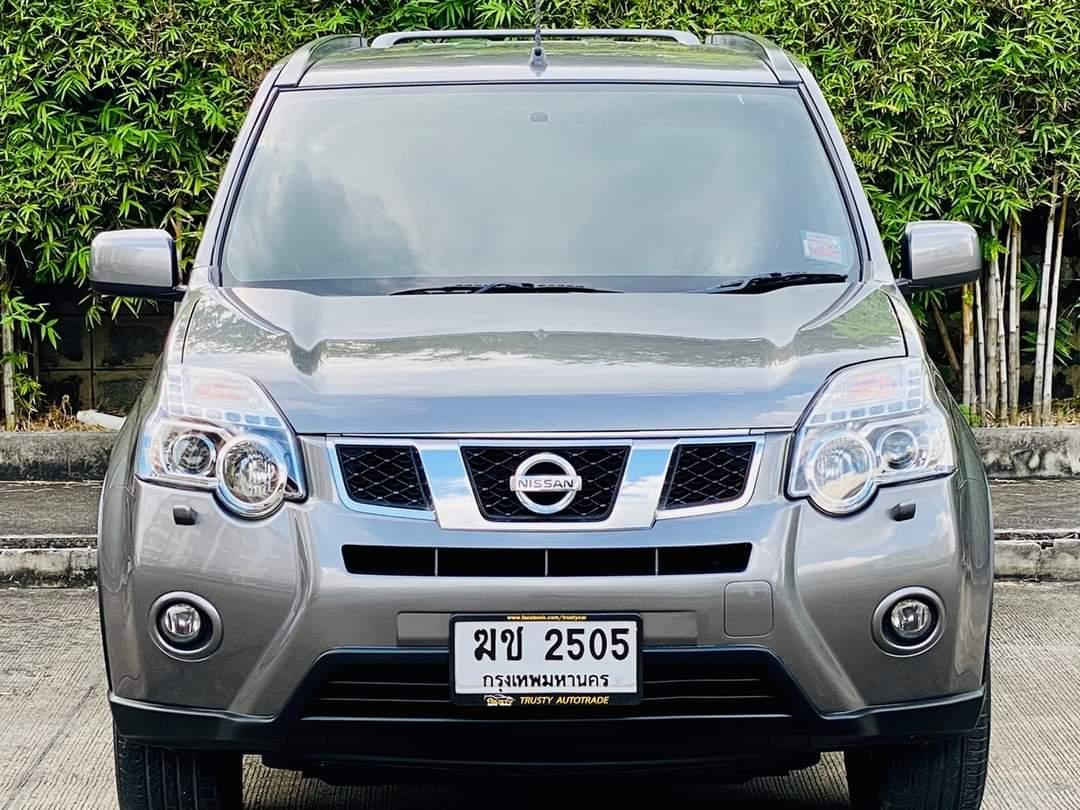license-plate: (450, 613, 644, 714)
